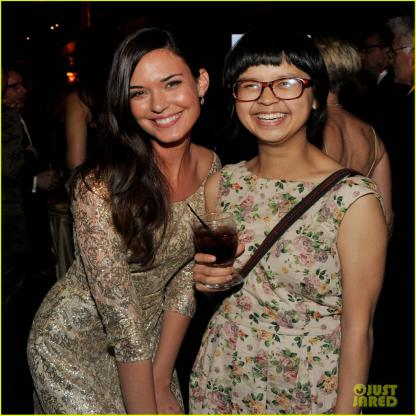face: (237, 59, 313, 142), (130, 56, 201, 143), (390, 40, 414, 82), (5, 76, 26, 106), (365, 45, 383, 68)
